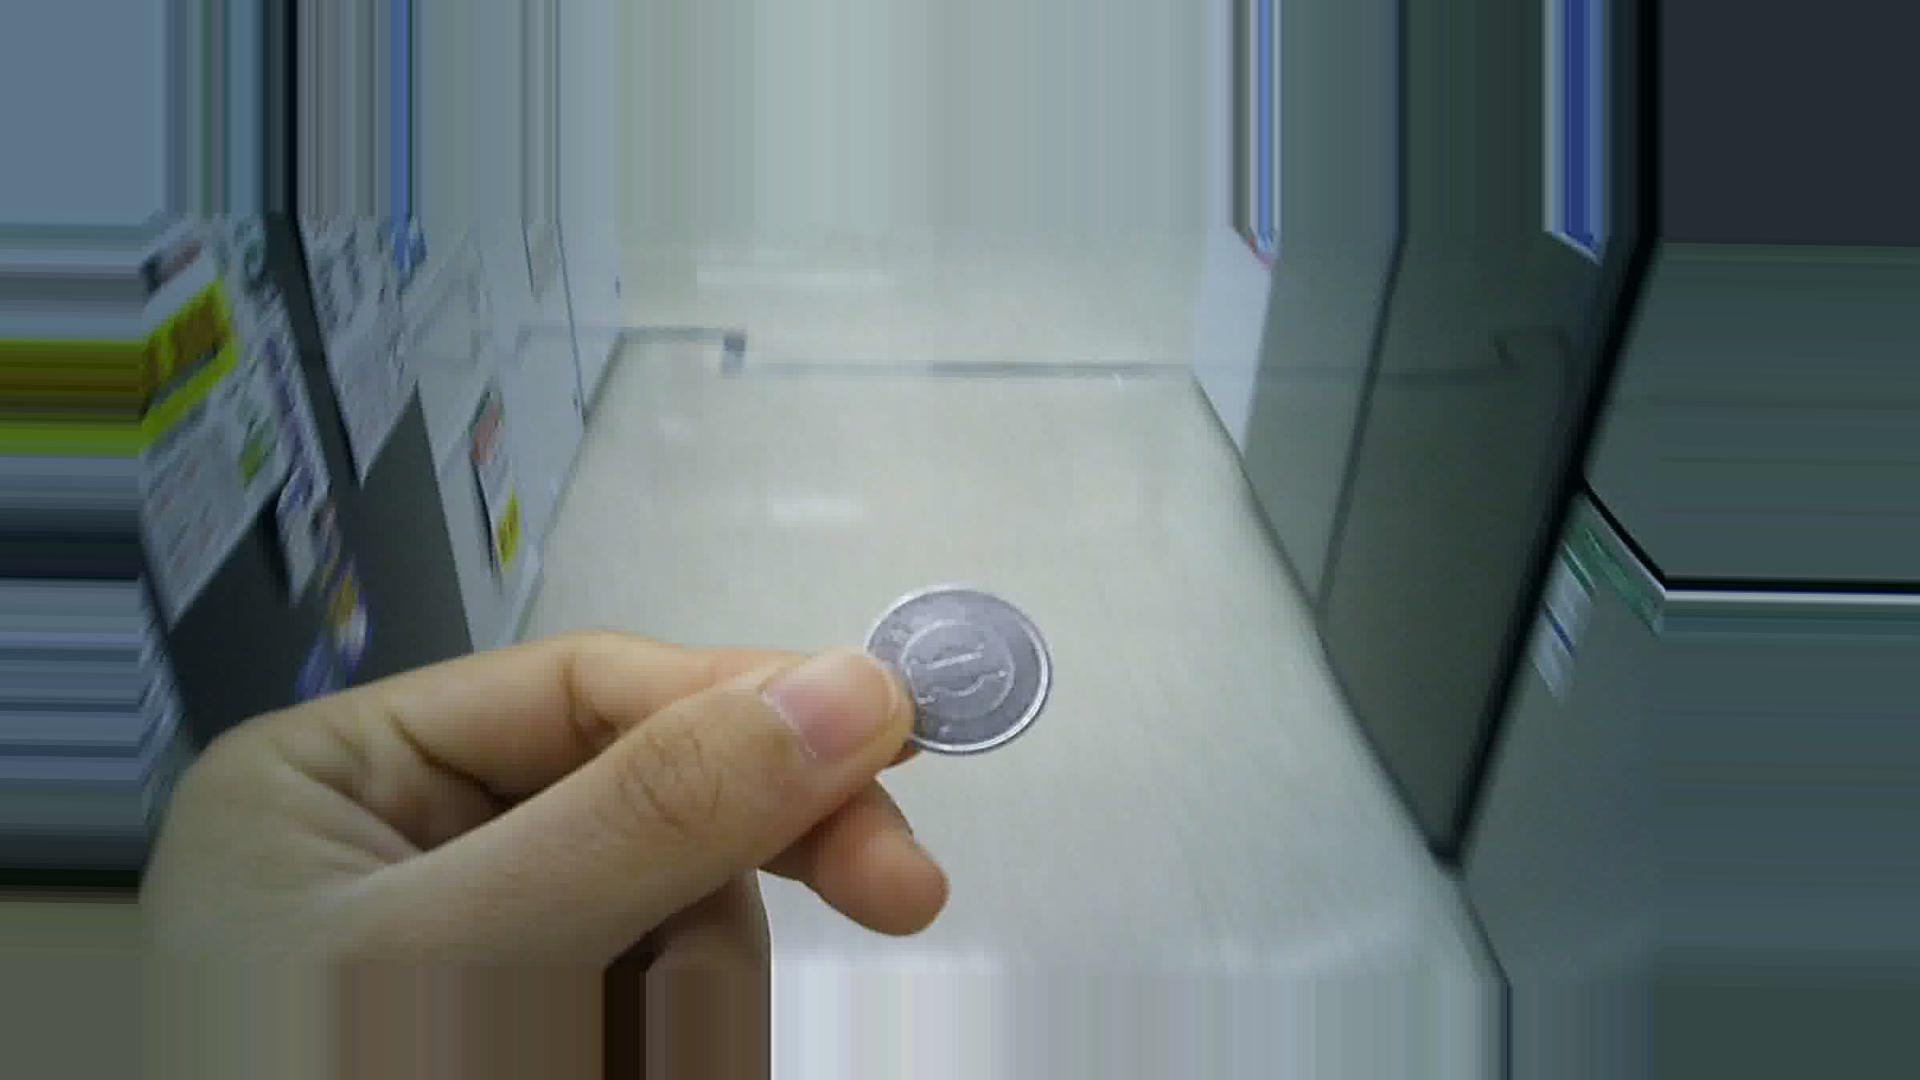1 Yen: (860, 578, 1042, 760)
